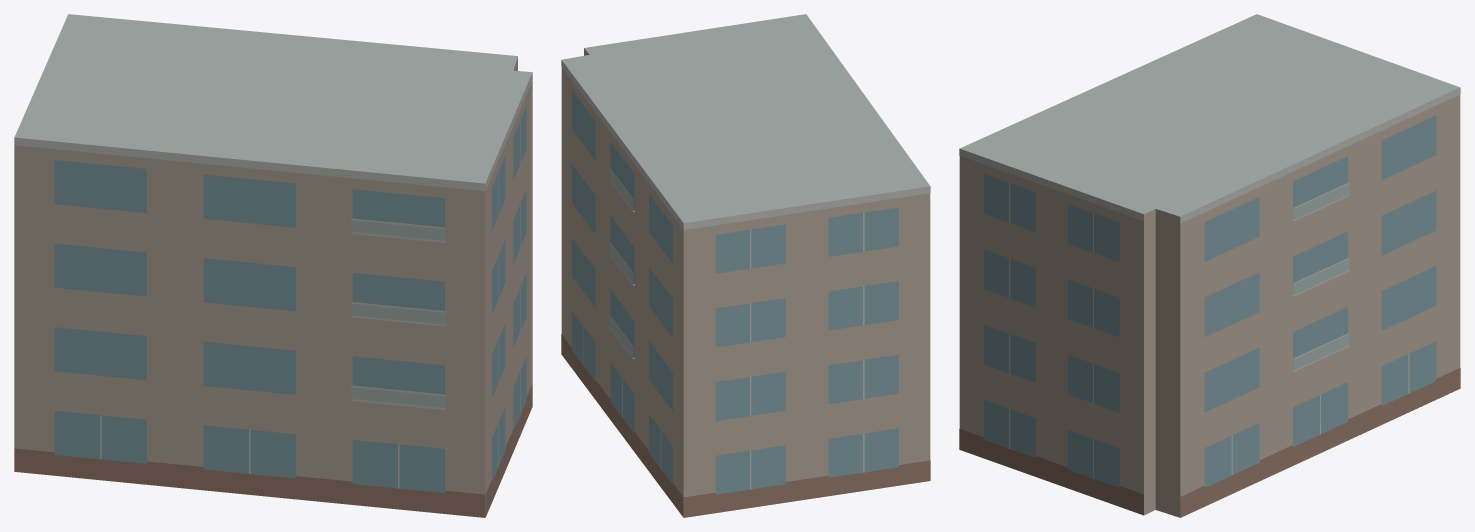
File: survey-upis-32539219.glb
3 views of the same model, side by side, from view 1: azimuth 30°, elevation 25°; view 2: azimuth 150°, elevation 25°; view 3: azimuth 270°, elevation 25° (orthographic). The views are drawn at different scales.
Parts seen in each view (by area): view 1: survey-upis-32539219.tmp; view 2: survey-upis-32539219.tmp; view 3: survey-upis-32539219.tmp.
Part boxes in pixels (x1=…): survey-upis-32539219.tmp: x1=14, y1=14, x2=532, y2=517; survey-upis-32539219.tmp: x1=561, y1=14, x2=930, y2=517; survey-upis-32539219.tmp: x1=959, y1=14, x2=1460, y2=517.
Bounding box in the file's own units: 15.17 × 10.5 × 15.84.
